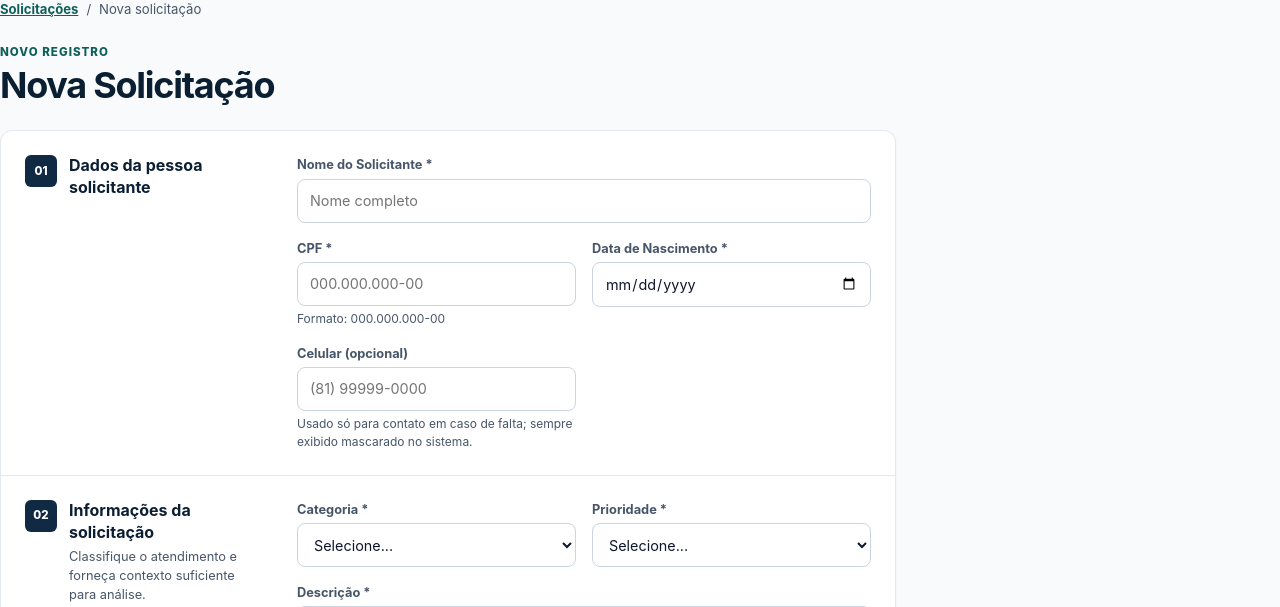
Test case: NovaSolicitacaoPage › mostra campo de justificativa apenas para prioridade URGENTE
The image size is (1280, 607).
Expected: the field labelled "Justificativa da Prioridade Urgente" is not shown
Select "Urgente" in the dropdown labelled "Prioridade *" at (732, 545), box [592,523,871,567]
(page scrolled)
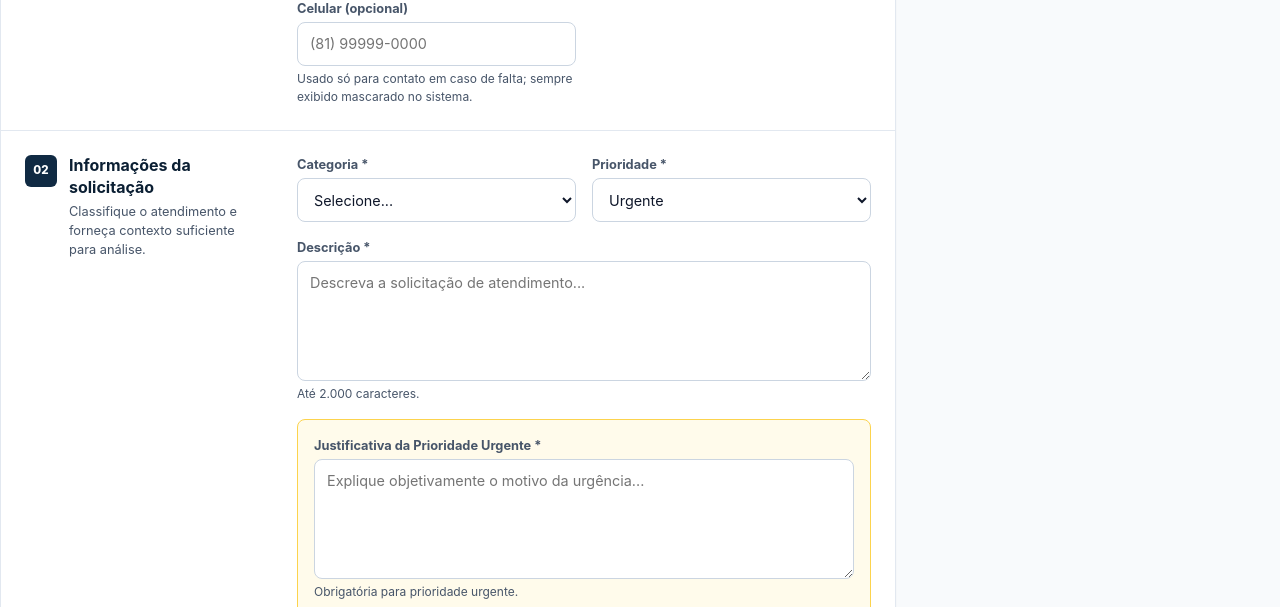
Expected: the text box labelled "Justificativa da Prioridade Urgente *" is shown, [314,460,854,580]
